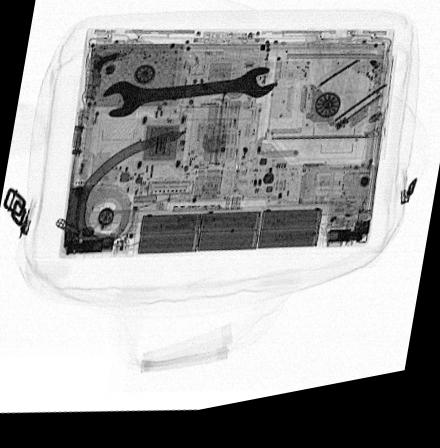Wrench: (102, 76, 276, 123)
